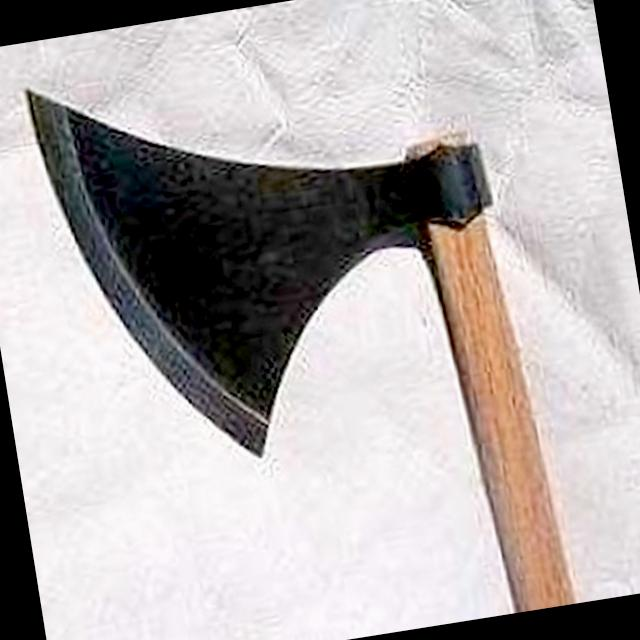ax: (8, 0, 588, 640)
